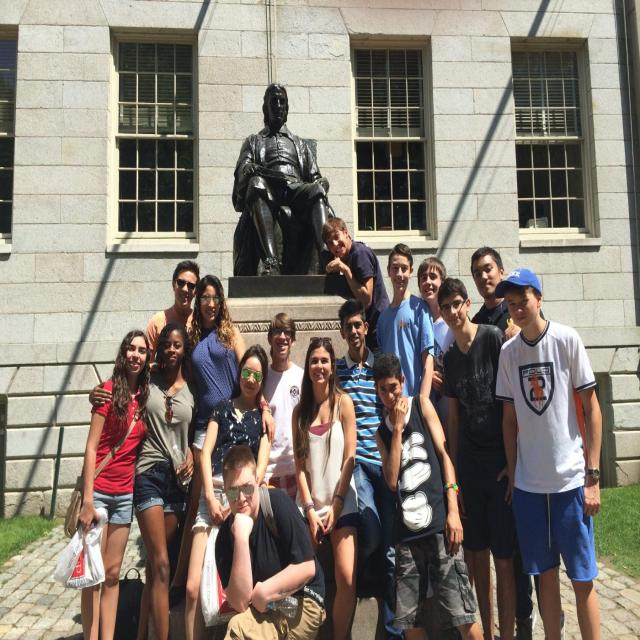body: (493, 264, 609, 640), (469, 245, 567, 640), (86, 320, 203, 639), (370, 351, 489, 640), (51, 327, 154, 639), (437, 277, 518, 639), (168, 273, 248, 612), (183, 343, 272, 640), (224, 77, 348, 289), (332, 297, 405, 640), (212, 440, 328, 640), (289, 333, 363, 639), (322, 215, 393, 357), (376, 242, 435, 398), (262, 311, 306, 502), (417, 255, 455, 438), (144, 259, 201, 368)
